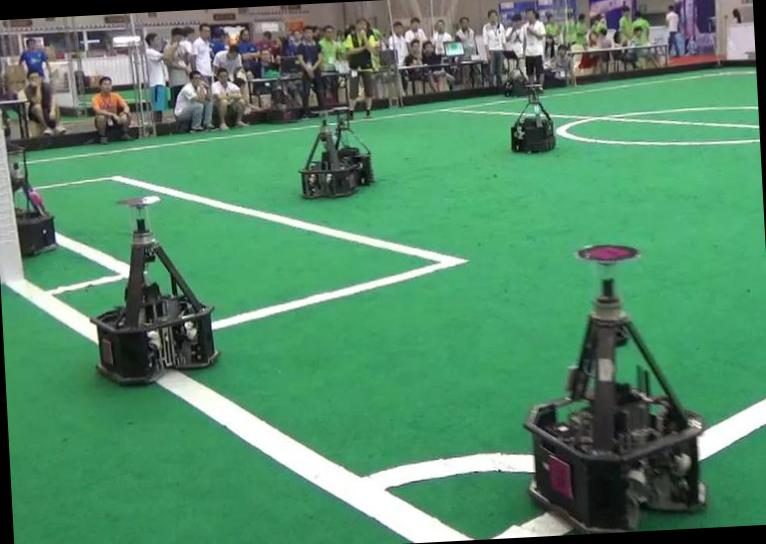person: (343, 19, 377, 115)
robot: (524, 245, 705, 530), (92, 195, 217, 383), (7, 145, 56, 255), (300, 109, 358, 196), (327, 107, 374, 185), (510, 83, 555, 151)
